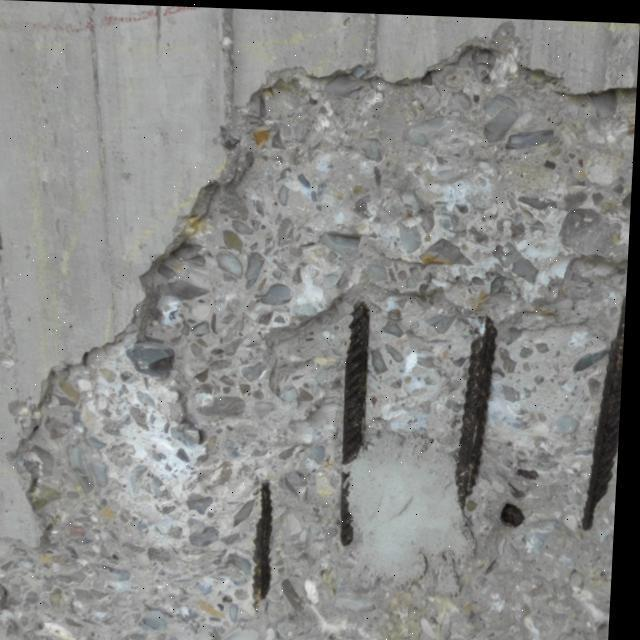D0w0: (2, 22, 629, 629)
